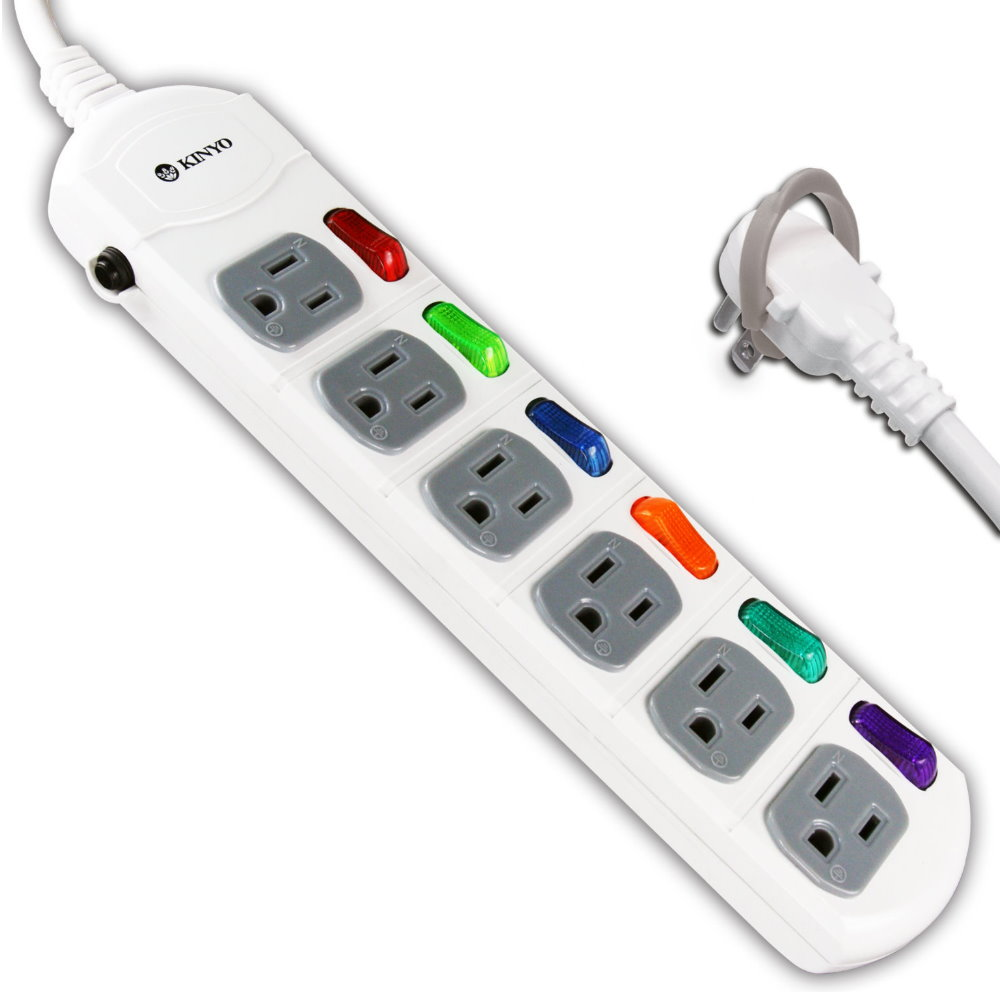socket: (39, 42, 973, 974)
